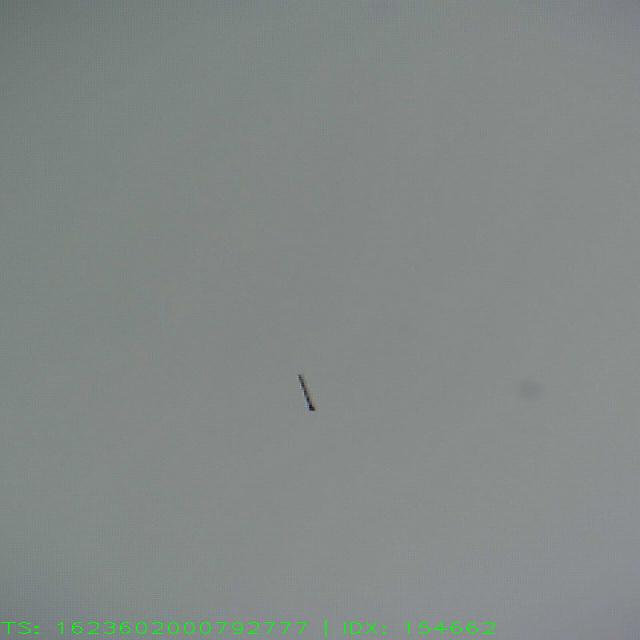Rocket: (297, 373, 316, 411)
